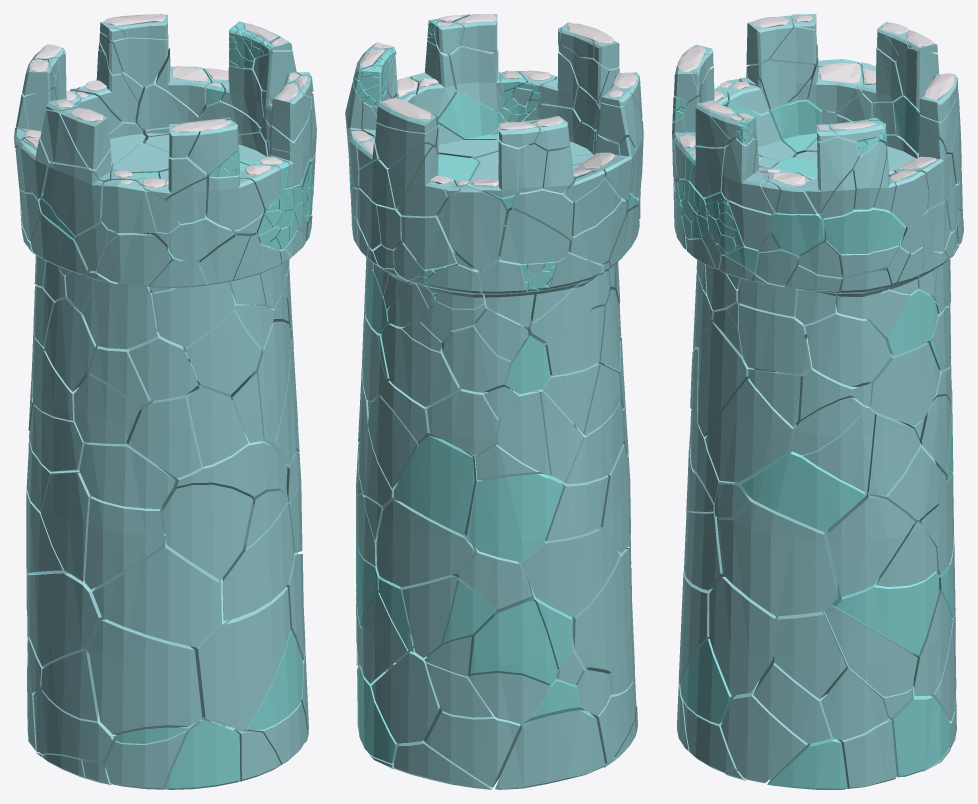
File: TowerCracked_finished.fbx
3 views of the same model, side by side, from view 1: azimuth 30°, elevation 25°; view 2: azimuth 150°, elevation 25°; view 3: azimuth 270°, elevation 25° (orthographic).
Parts seen in each view (by area): view 1: Cube.001, Sphere; view 2: Cube.001, Sphere.014; view 3: Cube.001, Sphere.007, Sphere.014.
Part boxes in pixels (left/top/right/bottom): Cube.001: left=14, top=14, right=316, bottom=789; Sphere: left=171, top=119, right=232, bottom=132; Cube.001: left=345, top=14, right=643, bottom=789; Sphere.014: left=382, top=98, right=431, bottom=119; Cube.001: left=672, top=14, right=963, bottom=789; Sphere.007: left=818, top=63, right=860, bottom=83; Sphere.014: left=924, top=73, right=954, bottom=100.
Size of the model in its own units: 200 by 475 by 189.
